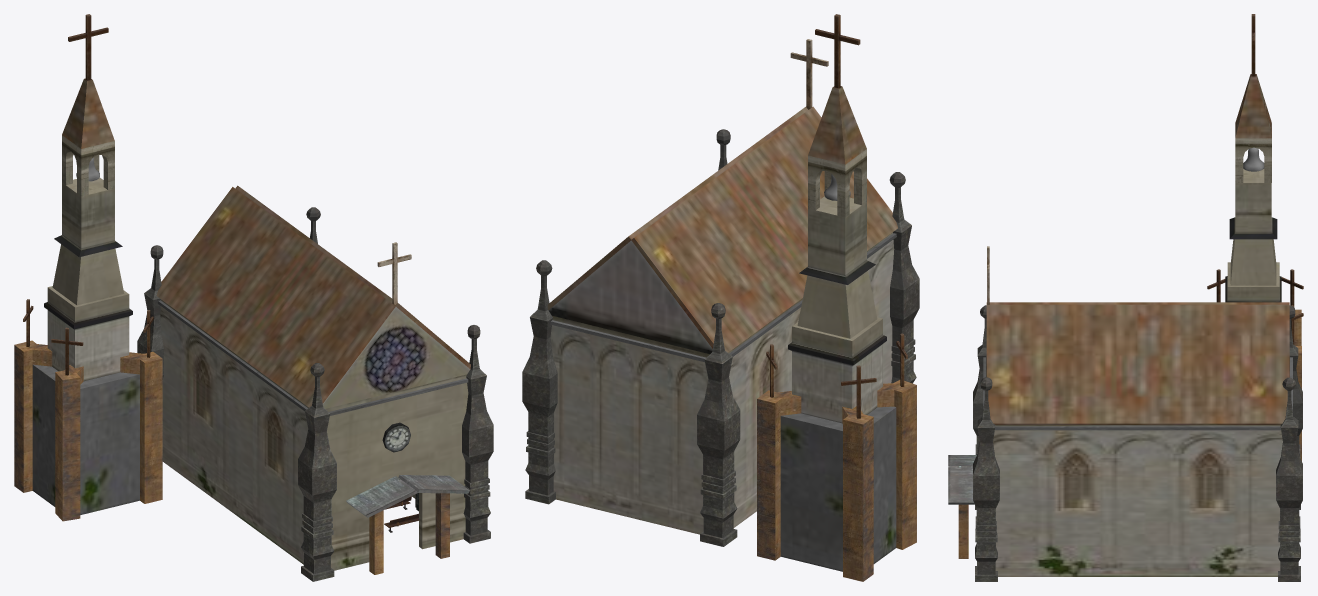
The model's file is church_se.glb.
3 views of the same model, side by side, from view 1: azimuth 30°, elevation 25°; view 2: azimuth 150°, elevation 25°; view 3: azimuth 270°, elevation 25° (orthographic). The views are drawn at different scales.
Parts seen in each view (by area): view 1: se_igreja_partes:pCube12_igreja_estrutura_0, se_igreja_partes:pCube14_igreja_estrutura_0, se_torre_igreja:corpo_torre_0, se_torre_igreja:base_torre_0, se_igreja_partes:pCube13_igreja_estrutura_0, se_igreja_partes:polySurface1_estrutura_02_.001, se_igreja_partes:polySurface1_estrutura_02_, se_torre_igreja:base_4_torre_0, se_torre_igreja:base_2_torre_0, se_torre_igreja:base_1_torre_0, se_igreja_partes:pCube16_igreja_estrutura_0, se_torre_igreja:telhado_torre_0 (+7 smaller); view 2: se_igreja_partes:pCube12_igreja_estrutura_0, se_igreja_partes:pCube14_igreja_estrutura_0, se_torre_igreja:corpo_torre_0, se_torre_igreja:base_torre_0, se_igreja_partes:pCube13_igreja_estrutura_0, se_igreja_partes:polySurface1_estrutura_02_.002, se_torre_igreja:base_1_torre_0, se_igreja_partes:polySurface1_estrutura_02_.003, se_torre_igreja:base_3_torre_0, se_torre_igreja:base_4_torre_0, se_igreja_partes:polySurface1_estrutura_02_.001, se_torre_igreja:telhado_torre_0 (+5 smaller); view 3: se_igreja_partes:pCube12_igreja_estrutura_0, se_igreja_partes:pCube14_igreja_estrutura_0, se_torre_igreja:corpo_torre_0, se_igreja_partes:polySurface1_estrutura_02_.003, se_igreja_partes:polySurface1_estrutura_02_, se_torre_igreja:telhado_torre_0, se_igreja_partes:pCube15_igreja_estrutura_0, se_igreja_partes:pCube16_igreja_estrutura_0, se_torre_igreja:arco_torre_0, se_igreja_partes:polySurface1_estrutura_02_.001, se_igreja_partes:polySurface1_estrutura_02_.002, se_SmartCombine_0_torre_0 (+1 smaller).
Part boxes in pixels (x1,y1,x2,y2): se_igreja_partes:pCube12_igreja_estrutura_0: [160, 300, 468, 570]; se_igreja_partes:pCube14_igreja_estrutura_0: [156, 185, 470, 407]; se_torre_igreja:corpo_torre_0: [44, 177, 132, 381]; se_torre_igreja:base_torre_0: [32, 364, 139, 514]; se_igreja_partes:pCube13_igreja_estrutura_0: [323, 307, 470, 408]; se_igreja_partes:polySurface1_estrutura_02_.001: [298, 411, 336, 581]; se_igreja_partes:polySurface1_estrutura_02_: [462, 375, 493, 543]; se_torre_igreja:base_4_torre_0: [55, 365, 83, 521]; se_torre_igreja:base_2_torre_0: [120, 351, 162, 503]; se_torre_igreja:base_1_torre_0: [14, 340, 52, 492]; se_igreja_partes:pCube16_igreja_estrutura_0: [346, 475, 469, 517]; se_torre_igreja:telhado_torre_0: [62, 78, 114, 148]; se_igreja_partes:pCube12_igreja_estrutura_0: [550, 232, 894, 534]; se_igreja_partes:pCube14_igreja_estrutura_0: [547, 106, 897, 352]; se_torre_igreja:corpo_torre_0: [788, 196, 886, 423]; se_torre_igreja:base_torre_0: [780, 406, 896, 571]; se_igreja_partes:pCube13_igreja_estrutura_0: [548, 240, 712, 353]; se_igreja_partes:polySurface1_estrutura_02_.002: [697, 356, 740, 546]; se_torre_igreja:base_1_torre_0: [842, 406, 873, 581]; se_igreja_partes:polySurface1_estrutura_02_.003: [522, 317, 557, 504]; se_torre_igreja:base_3_torre_0: [757, 390, 801, 560]; se_torre_igreja:base_4_torre_0: [877, 380, 916, 549]; se_igreja_partes:polySurface1_estrutura_02_.001: [890, 225, 919, 383]; se_torre_igreja:telhado_torre_0: [808, 86, 866, 164]; se_igreja_partes:pCube12_igreja_estrutura_0: [993, 425, 1282, 576]; se_igreja_partes:pCube14_igreja_estrutura_0: [986, 302, 1289, 424]; se_torre_igreja:corpo_torre_0: [1225, 169, 1281, 302]; se_igreja_partes:polySurface1_estrutura_02_.003: [1276, 427, 1302, 581]; se_igreja_partes:polySurface1_estrutura_02_: [973, 427, 999, 581]; se_torre_igreja:telhado_torre_0: [1235, 74, 1271, 138]; se_igreja_partes:pCube15_igreja_estrutura_0: [983, 357, 1292, 430]; se_igreja_partes:pCube16_igreja_estrutura_0: [948, 455, 976, 504]; se_torre_igreja:arco_torre_0: [1235, 138, 1271, 182]; se_igreja_partes:polySurface1_estrutura_02_.001: [973, 355, 986, 509]; se_igreja_partes:polySurface1_estrutura_02_.002: [1289, 355, 1302, 509]; se_SmartCombine_0_torre_0: [1207, 269, 1303, 344].
Size of the model in its own units: 20.23 by 30.1 by 21.54.
Materials: 10 (10 with a texture image).
